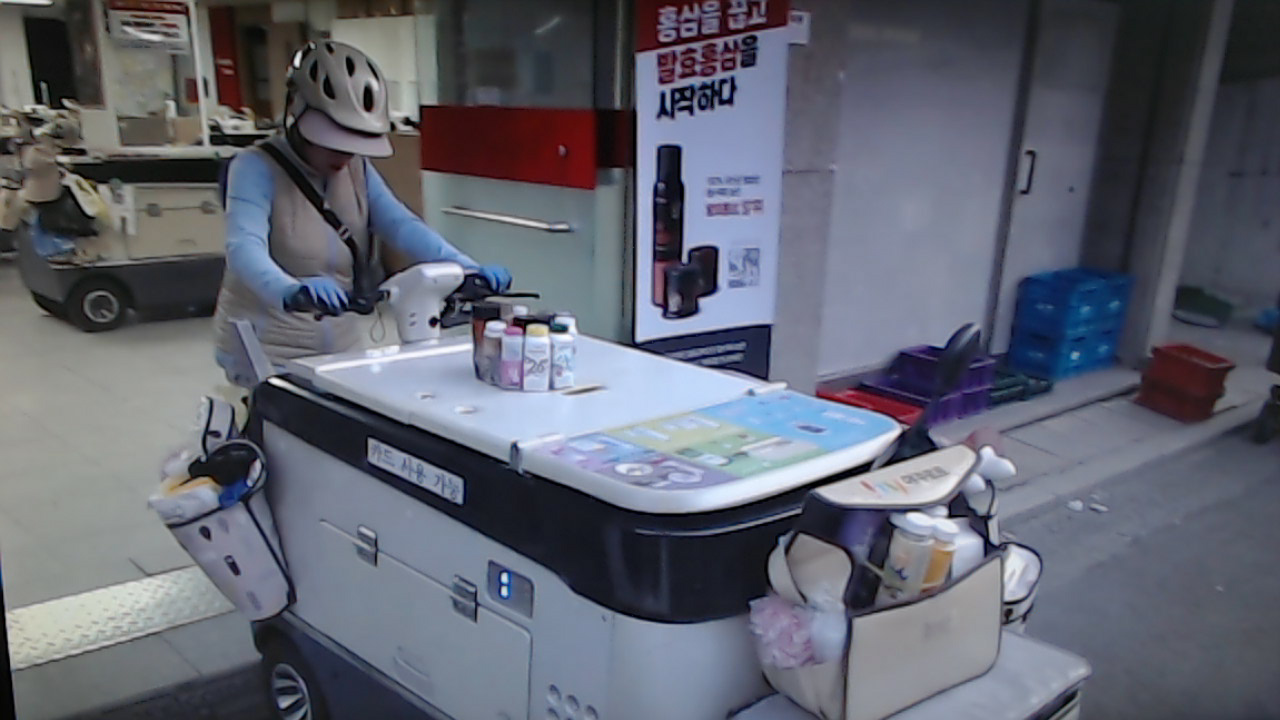Yakurut: (213, 33, 521, 393)
